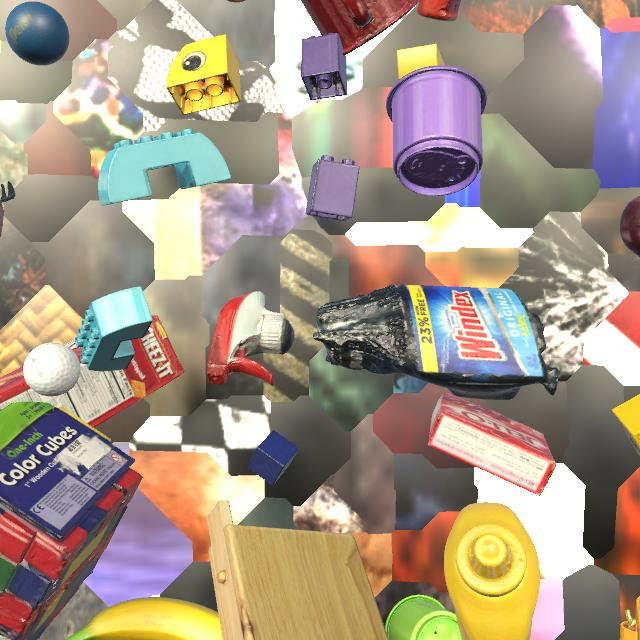ycb_003_cracker_box: (0, 316, 184, 428)
ycb_006_mustard_bottle: (444, 502, 540, 640)
ycb_009_gelatin_box: (428, 392, 556, 496)
ycb_011_banana: (66, 597, 223, 640)
ycb_018_plum: (620, 196, 640, 257)
